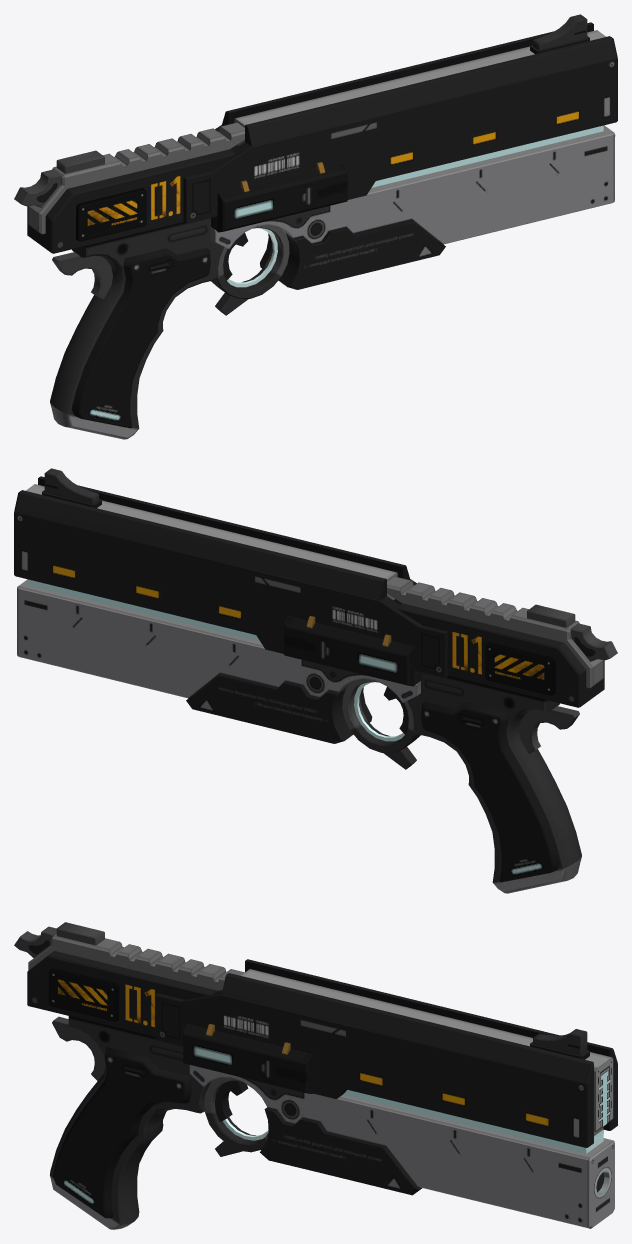
Rendered from E3GunMd080011.fbx.
3 views of the same model, one above another, from view 1: azimuth 30°, elevation 25°; view 2: azimuth 150°, elevation 25°; view 3: azimuth 330°, elevation 25° (orthographic).
Visible parts, largest first — view 1: E3GunMd0800111, E3GunMd0800113, E3GunMd0800112; view 2: E3GunMd0800111, E3GunMd0800113, E3GunMd0800112; view 3: E3GunMd0800111, E3GunMd0800113, E3GunMd0800112.
Boxes of the visible parts, left/top/right/bottom form: E3GunMd0800111: left=27, top=14, right=617, bottom=428; E3GunMd0800113: left=28, top=122, right=615, bottom=439; E3GunMd0800112: left=14, top=150, right=289, bottom=428; E3GunMd0800111: left=14, top=468, right=604, bottom=882; E3GunMd0800113: left=17, top=576, right=603, bottom=893; E3GunMd0800112: left=342, top=604, right=617, bottom=882; E3GunMd0800111: left=27, top=951, right=617, bottom=1218; E3GunMd0800113: left=28, top=933, right=614, bottom=1229; E3GunMd0800112: left=14, top=922, right=268, bottom=1224.
Size of the model in its own units: 0.3421 by 0.1712 by 0.0414.
3 materials, 3 textured.
